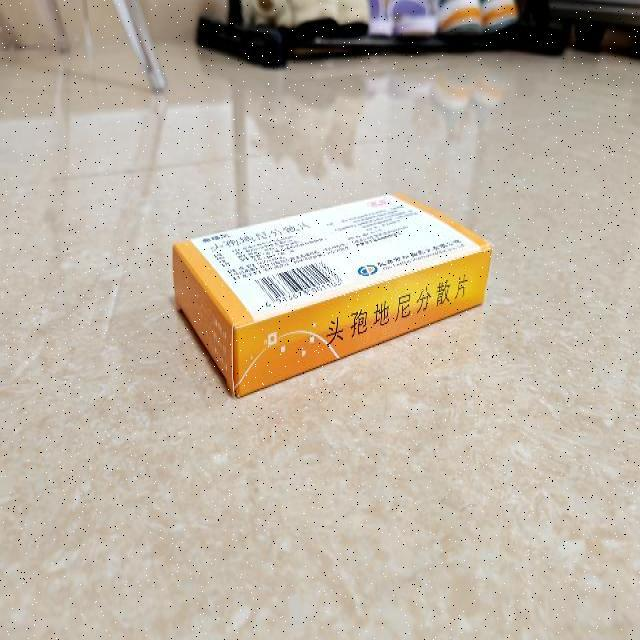box: (172, 192, 494, 398)
